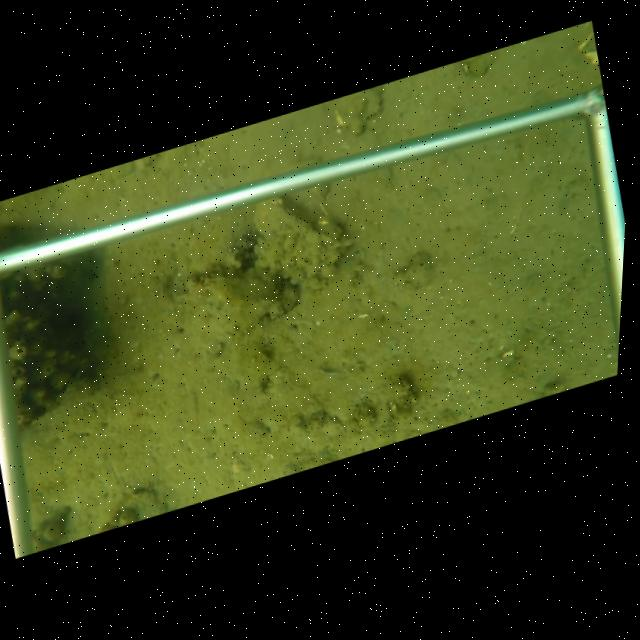Oyster-Closed: (245, 196, 352, 293)
